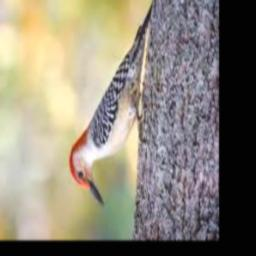Woodpecker: (69, 2, 154, 206)
